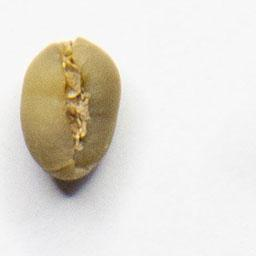peaberry: (17, 34, 124, 184)
